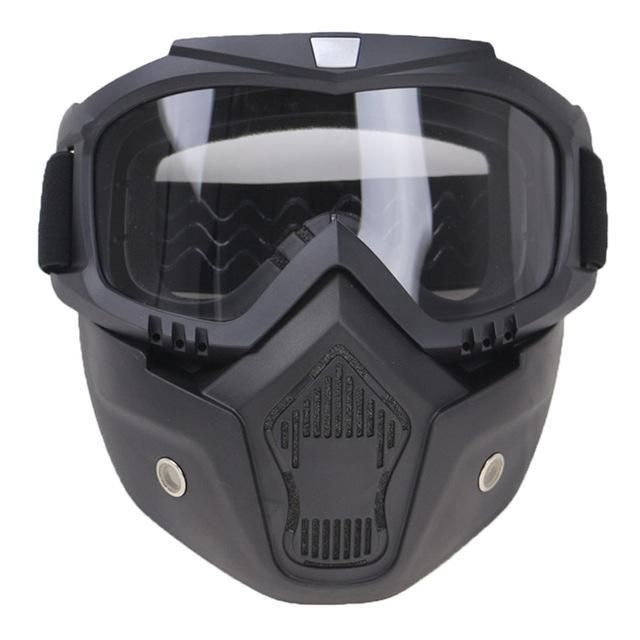with_helmet: (48, 30, 612, 602)
